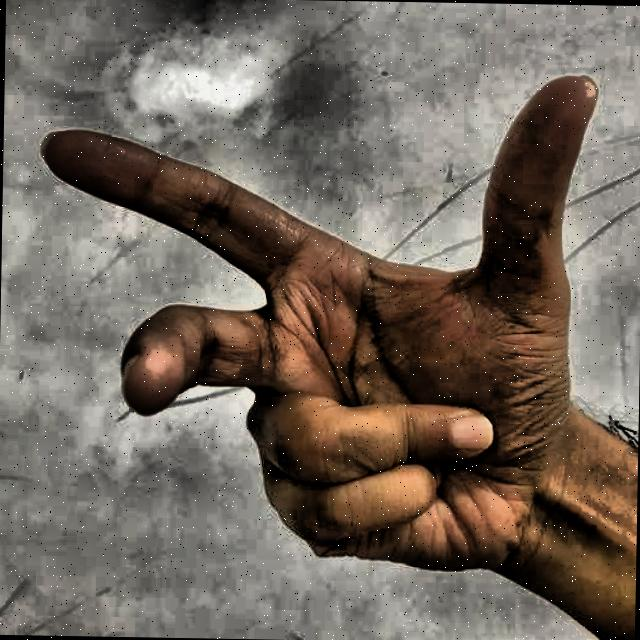Da: (18, 25, 614, 618)
